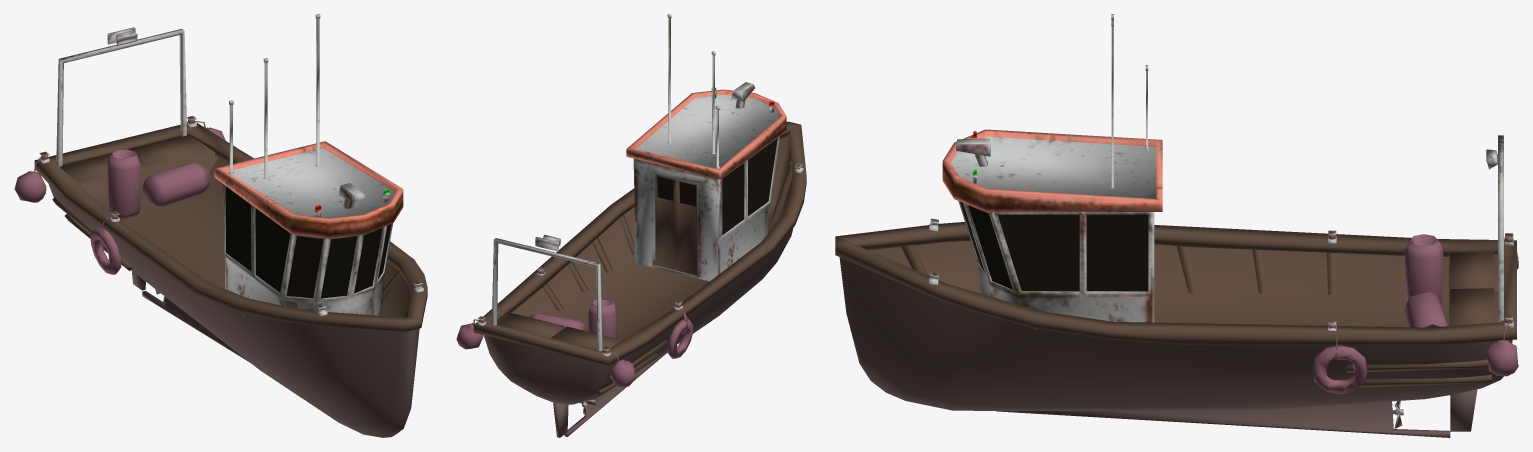
Rendered from cove-fisher-boat.lod0.glb.
The picture shows the model from 3 angles, left to right: view 1: azimuth 30°, elevation 25°; view 2: azimuth 150°, elevation 25°; view 3: azimuth 270°, elevation 25°; orthographic projection. The views are drawn at different scales.
Parts seen in each view (by area): view 1: Cube.022_MainColor_0, Cube.022_Metal_0; view 2: Cube.022_MainColor_0, Cube.022_Metal_0; view 3: Cube.022_MainColor_0, Cube.022_Metal_0.
Part boxes in pixels (x1,y1,x2,y2): Cube.022_MainColor_0: [14, 119, 427, 437]; Cube.022_Metal_0: [39, 14, 423, 315]; Cube.022_MainColor_0: [456, 87, 806, 437]; Cube.022_Metal_0: [477, 14, 803, 415]; Cube.022_MainColor_0: [835, 131, 1518, 437]; Cube.022_Metal_0: [929, 14, 1513, 428].
Bounding box in the file's own units: 3.61 × 6.32 × 8.96.
2 materials, 1 textured.
